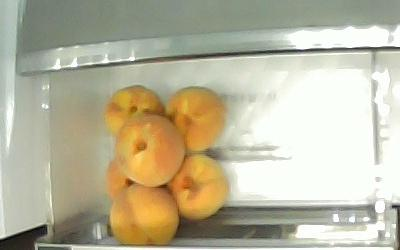peach: (112, 115, 185, 187), (108, 185, 178, 245), (161, 88, 227, 150), (169, 154, 227, 218), (103, 86, 161, 135), (106, 158, 136, 202)
